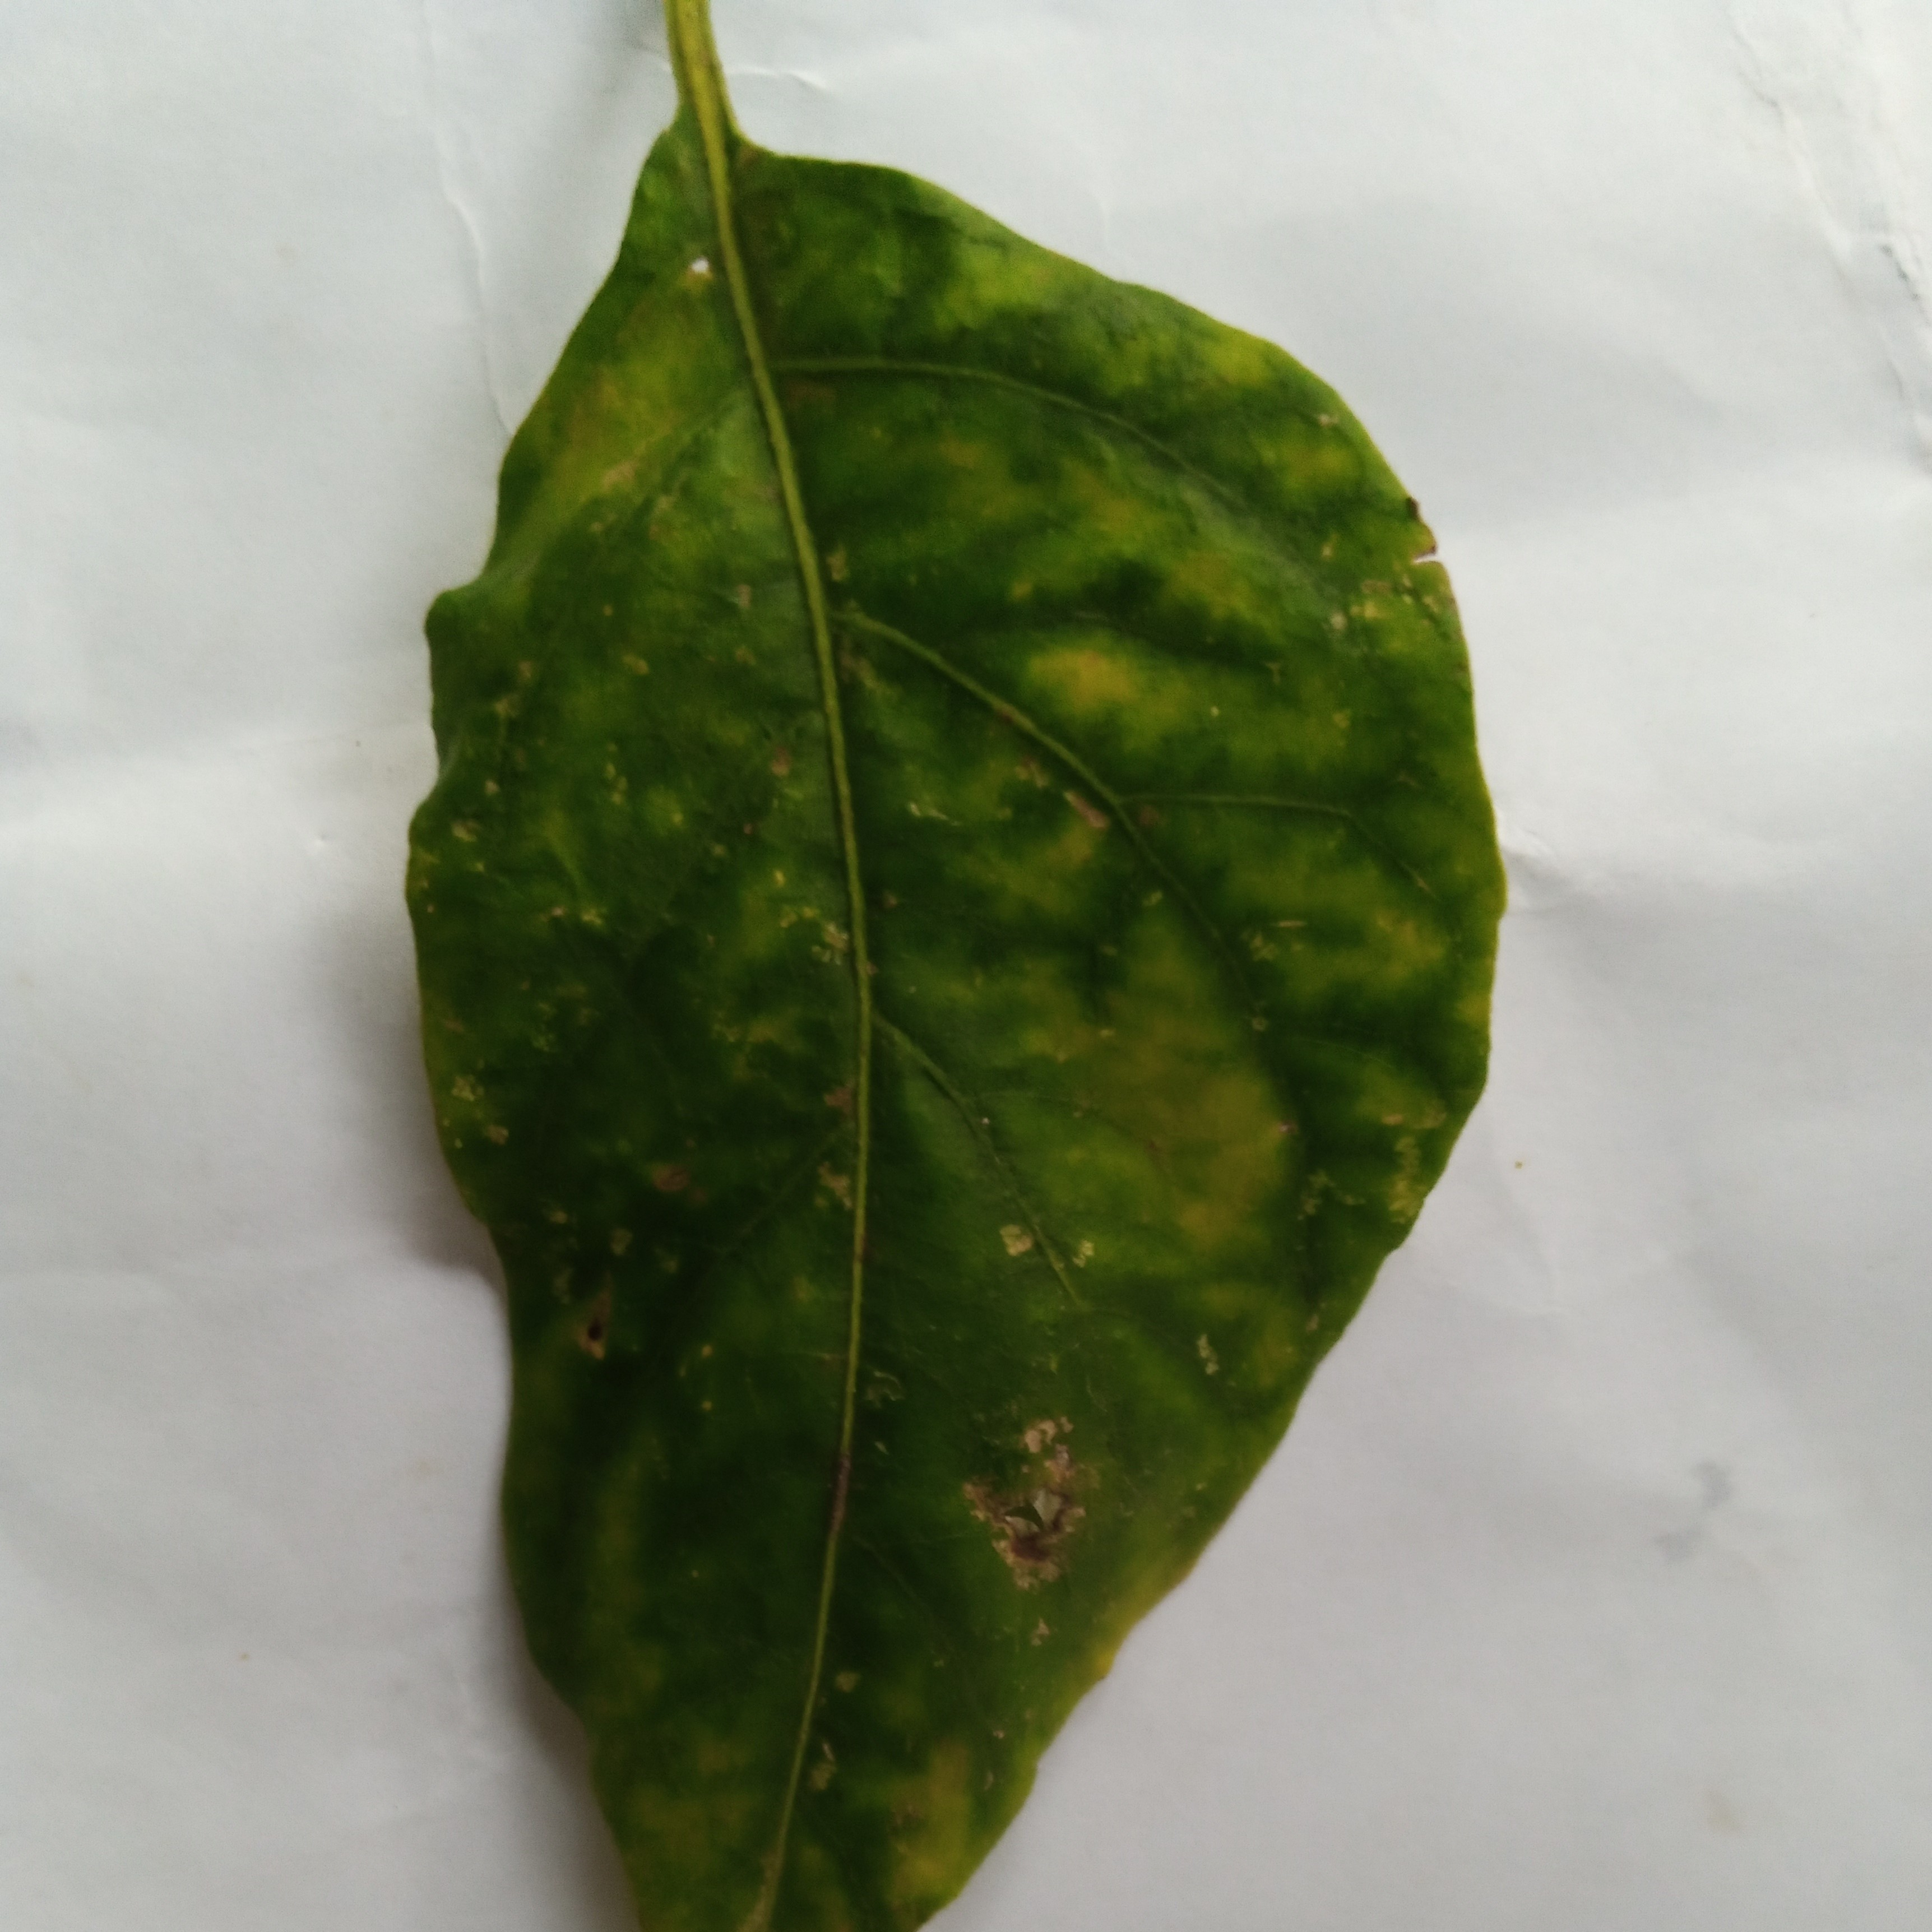Leaf: (212, 74, 1688, 1932)
